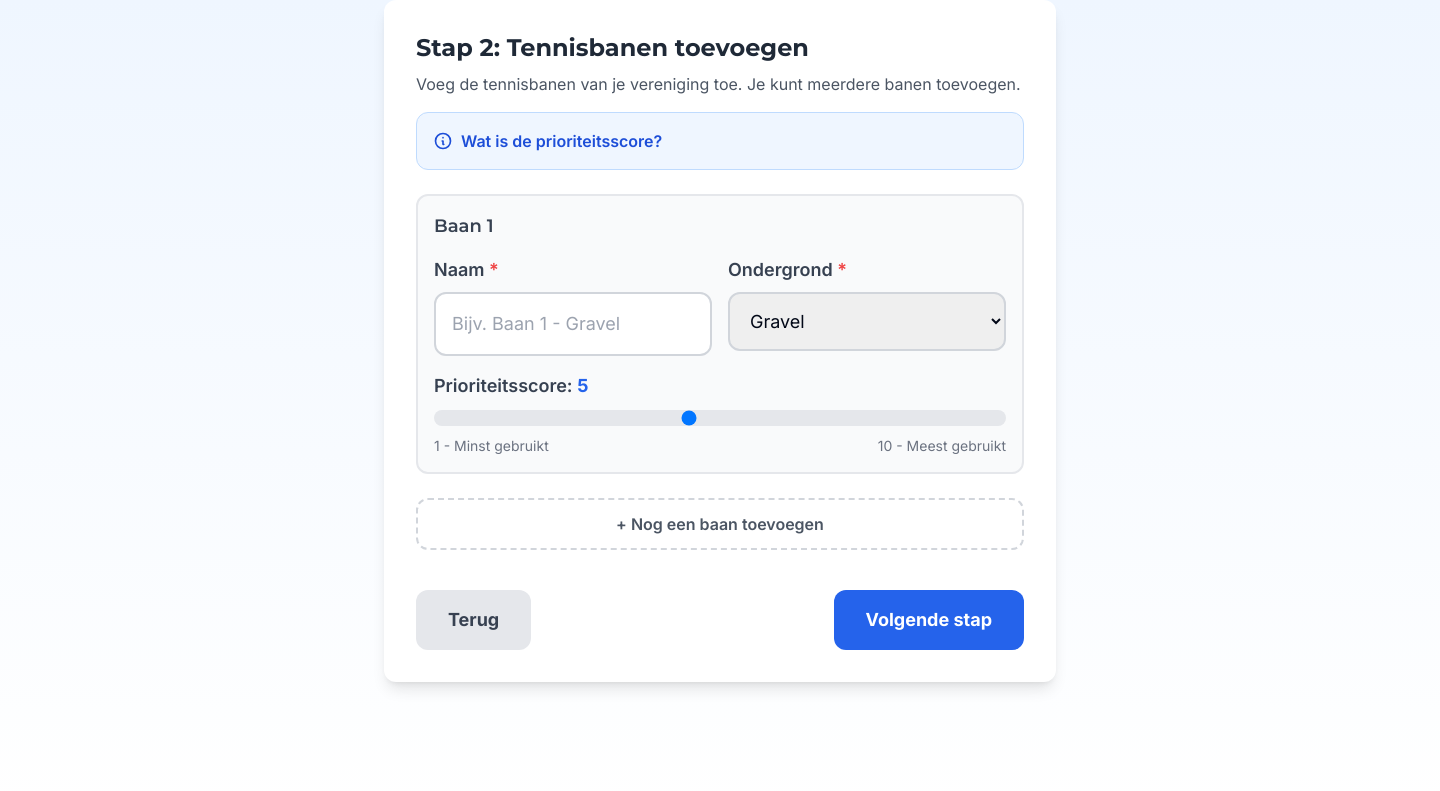
Test: CourtsStep › Validation › should show error for each court with empty name
Click the button "+ Nog een baan toevoegen".
click(720, 524)  # box [416,498,1024,550]
(page scrolled)
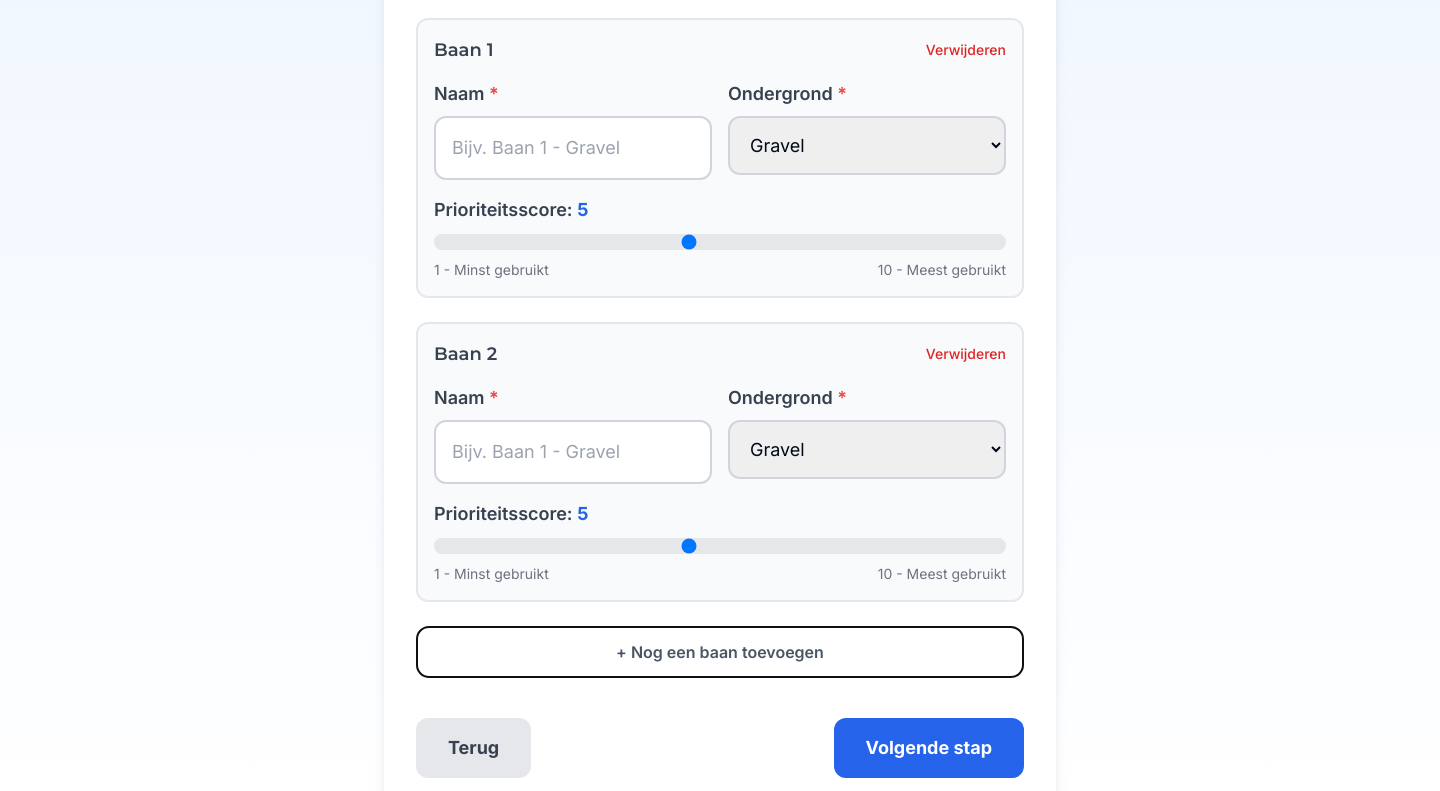
Click the button "Volgende stap".
click(929, 748)  # box [834,718,1024,778]
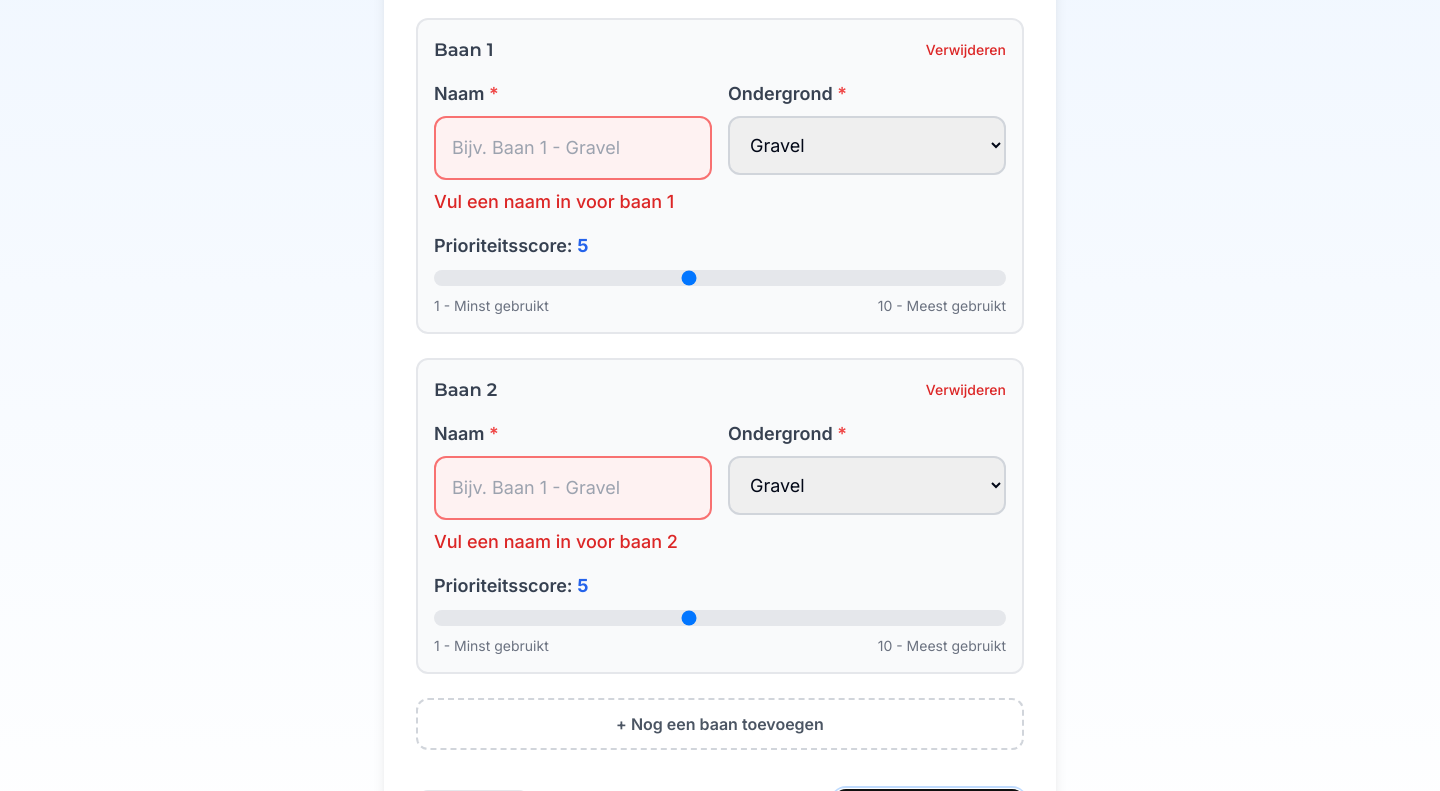
Expected: the text "Vul een naam in voor baan 1" is shown, [434,188,712,216]
Expected: the text "Vul een naam in voor baan 2" is shown, [434,528,712,556]
